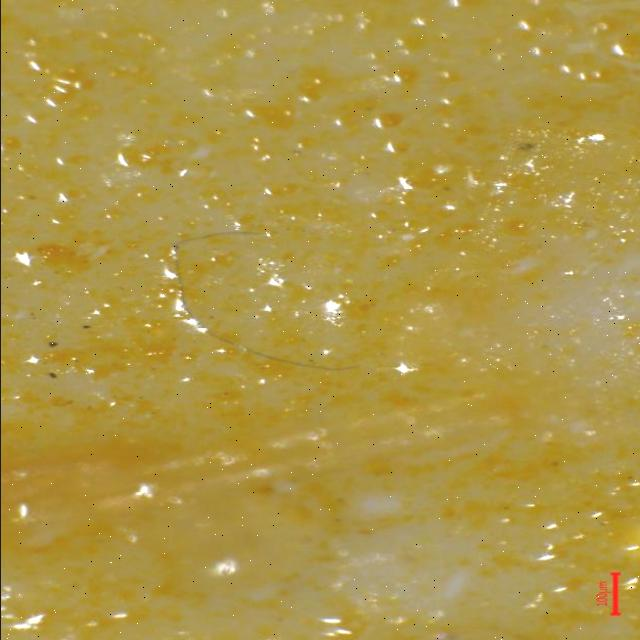Fibre: (164, 220, 360, 378)
